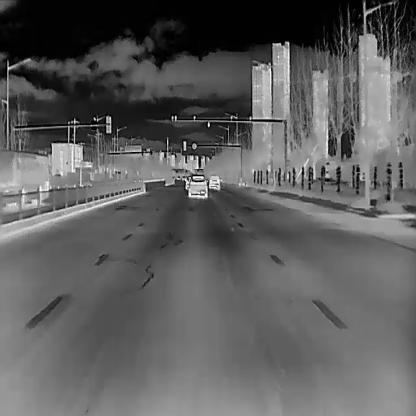car: (0, 148, 51, 210), (186, 173, 208, 197), (208, 174, 222, 189), (185, 175, 191, 189), (175, 174, 180, 179), (181, 175, 186, 180)
